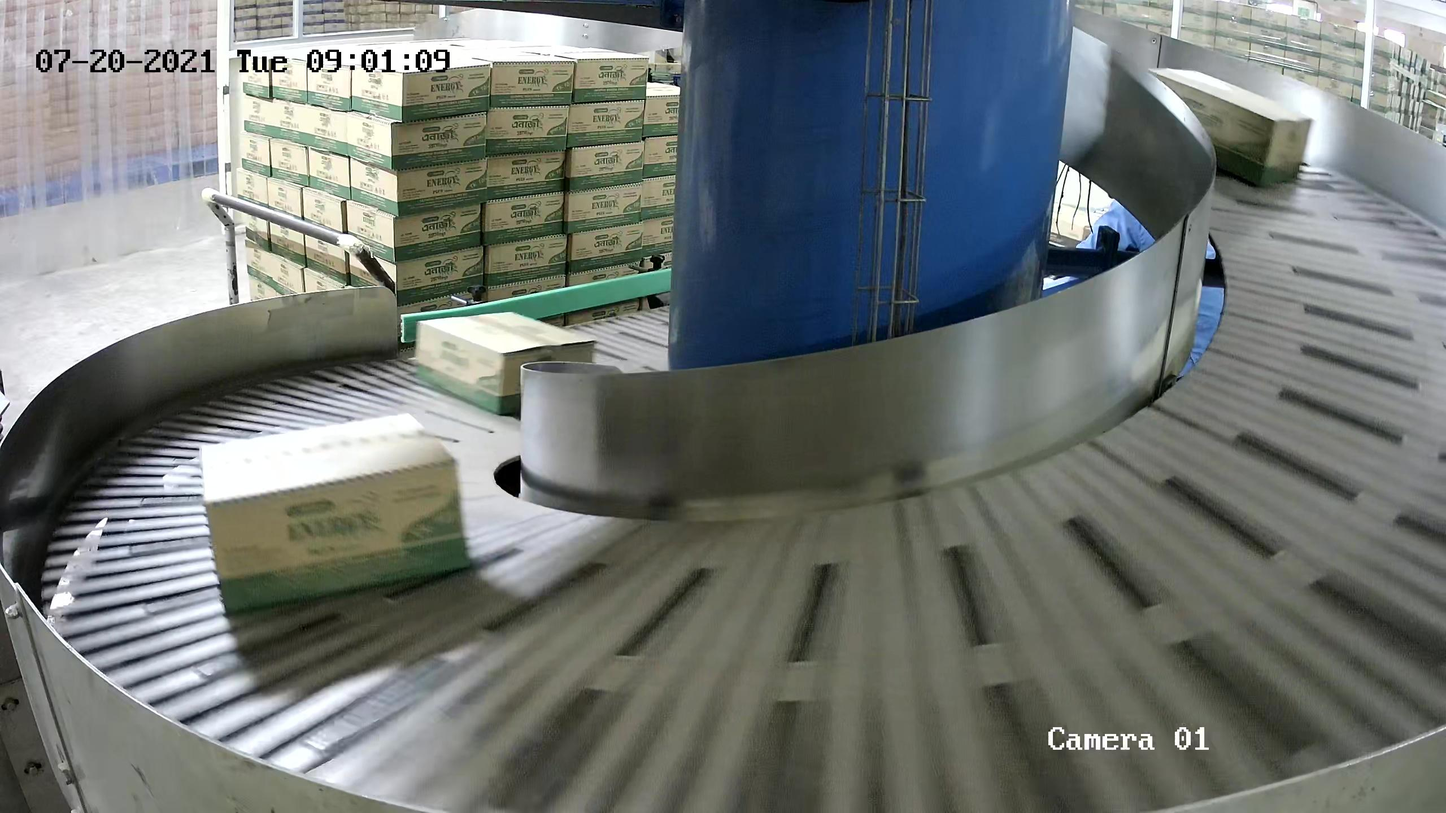Box: (199, 412, 471, 611), (1130, 67, 1314, 190), (415, 311, 597, 416)
